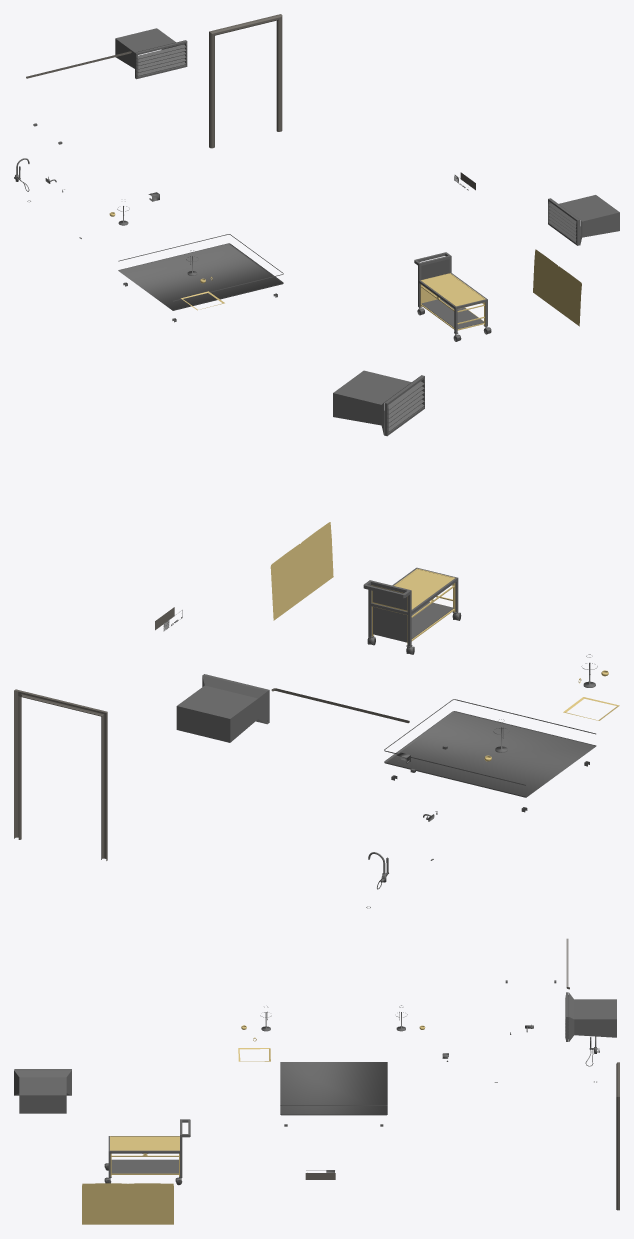
File: metal.glb
3 views of the same model, one above another, from view 1: azimuth 30°, elevation 25°; view 2: azimuth 150°, elevation 25°; view 3: azimuth 270°, elevation 25° (orthographic). The views are drawn at different scales.
Parts seen in each view (by area): view 1: Metal; view 2: Metal; view 3: Metal.
Part boxes in pixels (box(x1,y1,x2,y2)): Metal: box(14, 14, 619, 341); Metal: box(14, 370, 619, 908); Metal: box(14, 938, 619, 1224).
Size of the model in its own units: 5.89 by 2.55 by 9.96.
